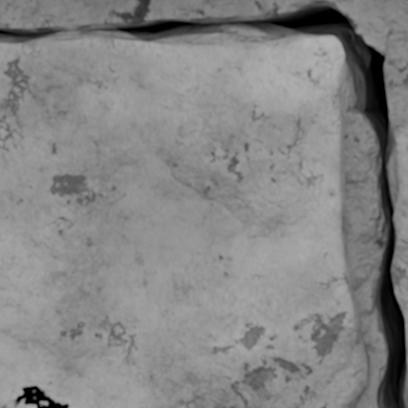brick: (0, 33, 369, 407), (385, 38, 407, 345), (18, 402, 35, 407), (405, 372, 407, 407)
crack: (0, 2, 407, 407), (12, 384, 69, 407)
